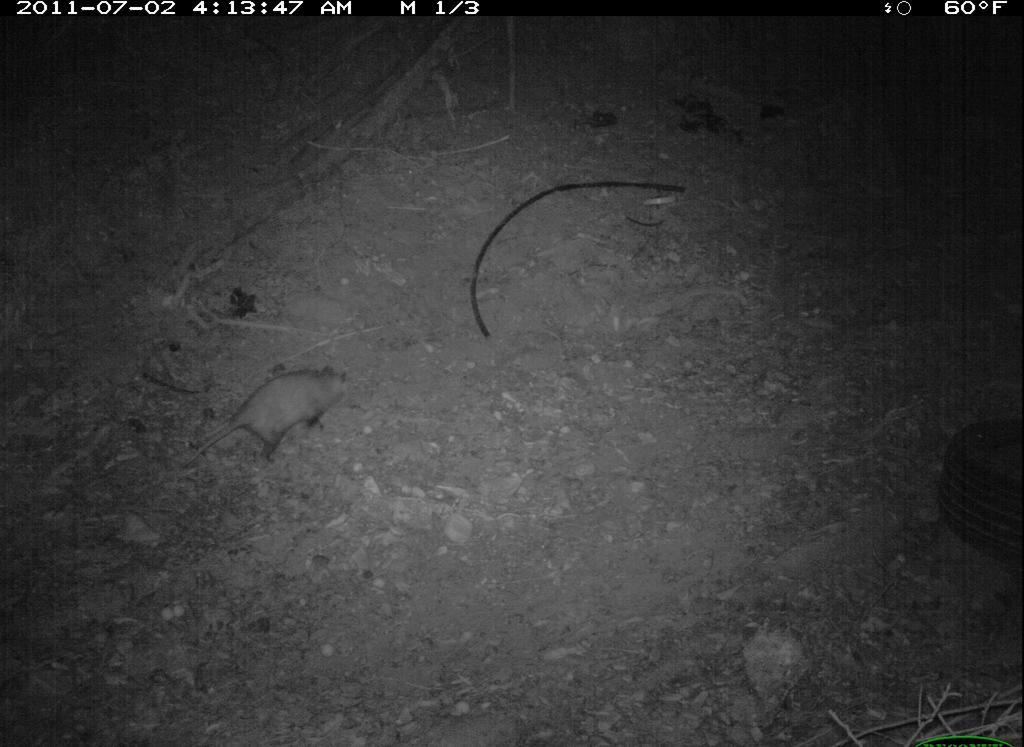opossum: (172, 360, 356, 483)
